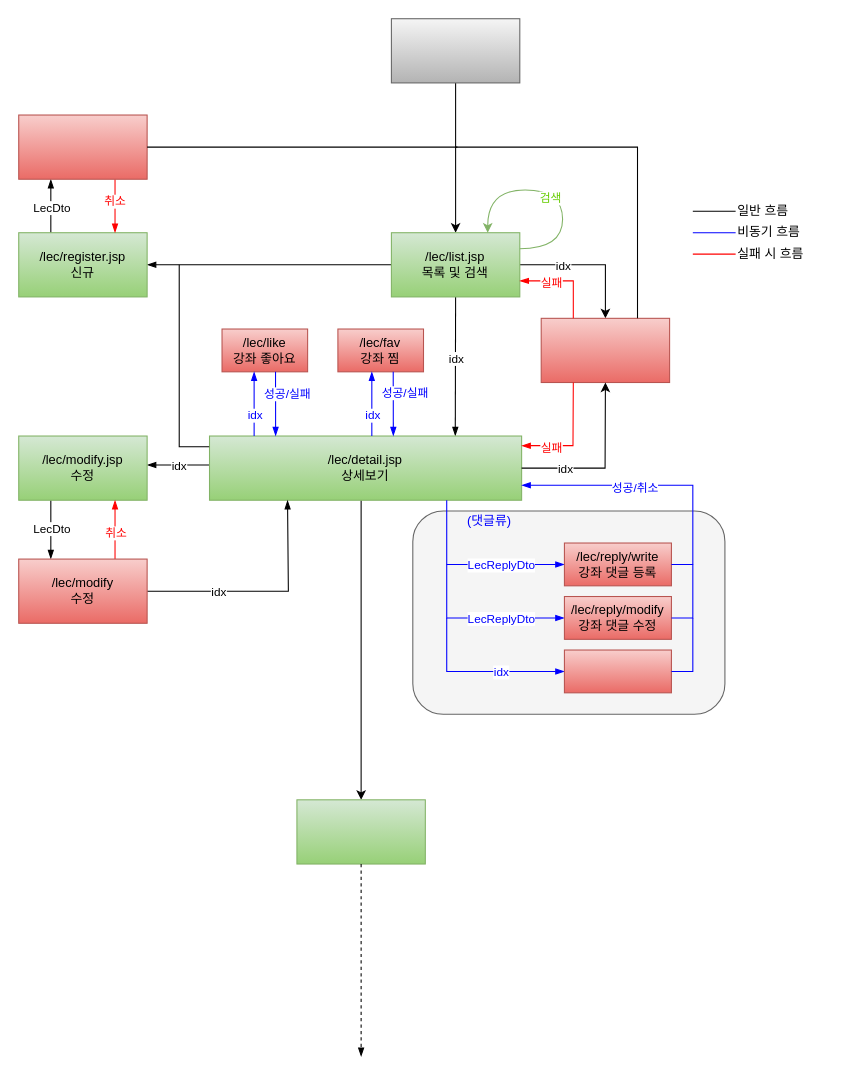
Some shapes in this 861 by 1084 pixel diagram are drawn without their labels. The centre of each missing label's shape, as x and y in pixels:
"/lec/delete 삭제" belongs at point 605,350.
"/lec/payConfirm 결제 정보 확인" belongs at point 360,831.
"/lec/register 신규" belongs at point 82,146.
"/lec/reply/delete 강좌 댓글 삭제" belongs at point 617,671.
"index.jsp 웹사이트 메인화면" belongs at point 455,50.
